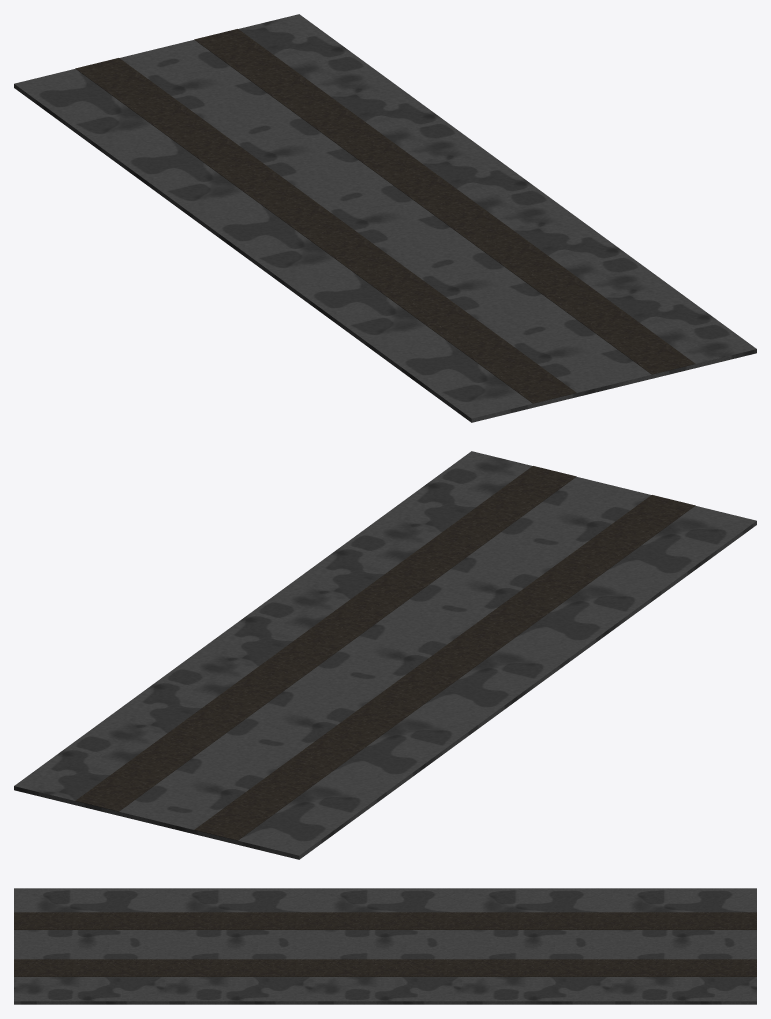
The model's file is road.dirt.straight.glb.
3 renders of one model, top to bottom at view 1: azimuth 30°, elevation 25°; view 2: azimuth 150°, elevation 25°; view 3: azimuth 270°, elevation 25°, orthographic. The views are drawn at different scales.
Visible parts, largest first — view 1: road.dirt.straight; view 2: road.dirt.straight; view 3: road.dirt.straight.
Part boxes in pixels (x1,y1,x2,y2): road.dirt.straight: [14, 14, 756, 422]; road.dirt.straight: [14, 451, 756, 859]; road.dirt.straight: [14, 888, 756, 1004].
Size of the model in its own units: 3.6 by 0.054 by 10.
Materials: 2 (2 with a texture image).
